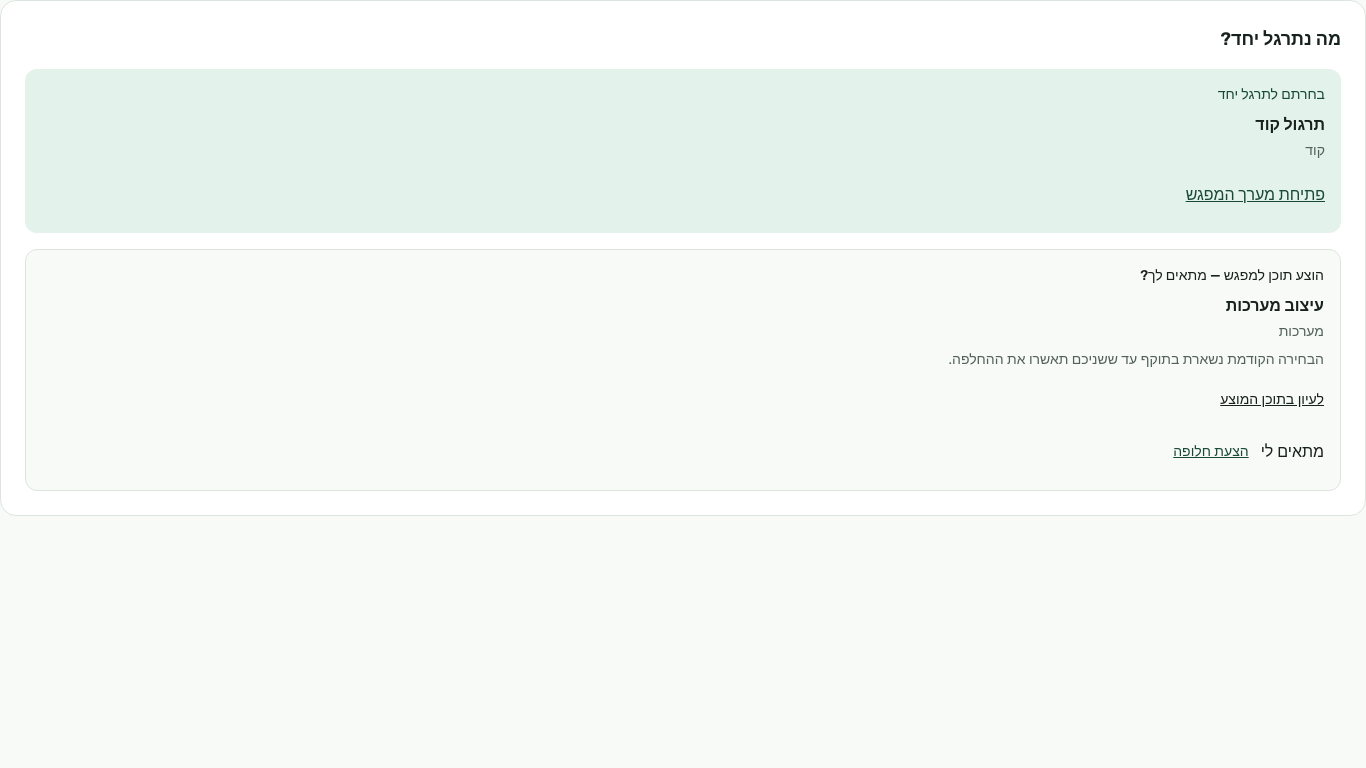
it: shared practice UI › lets the recipient approve the exact revision and reports failures
Click the button "מתאים לי" at (1292, 452), box [1261,440,1324,464]
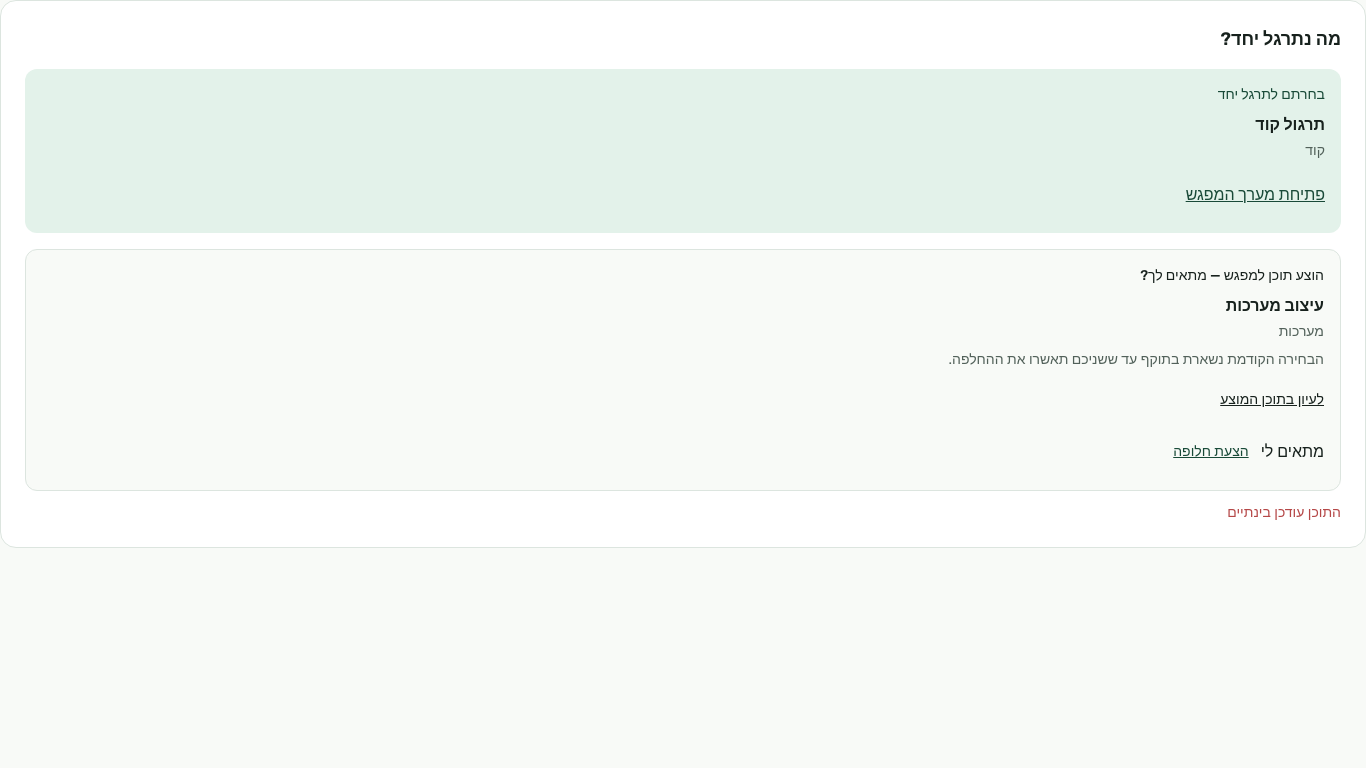
Now the message reads "התוכן עודכן בינתיים", box [1227,504,1341,521]
